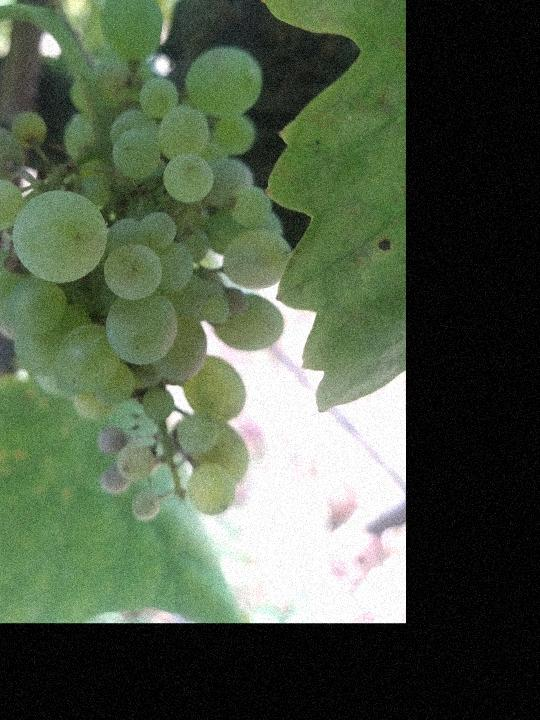grape: (0, 0, 297, 524)
